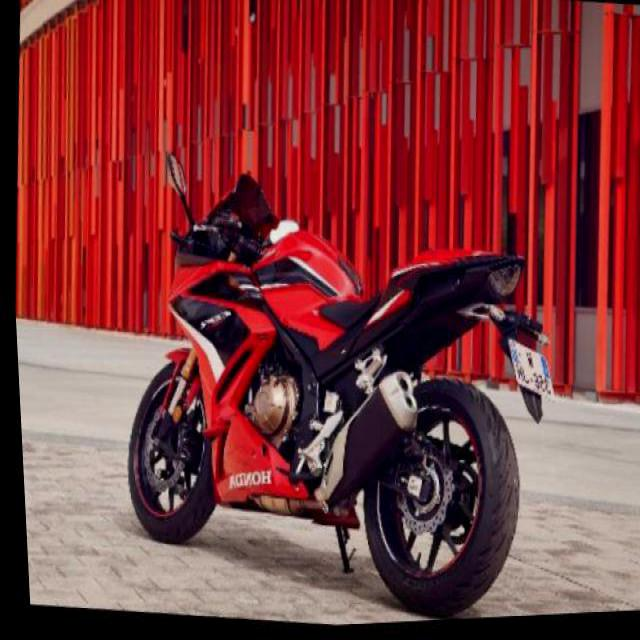CBR500R: (98, 133, 571, 635)
